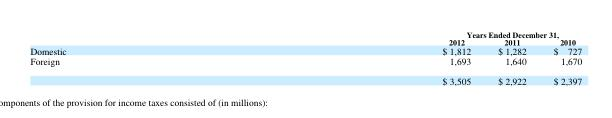table: (29, 29, 581, 87)
table column: (253, 29, 483, 87), (29, 29, 253, 87), (483, 29, 539, 87), (539, 29, 581, 87)
table column header: (29, 29, 581, 46)
table row: (29, 70, 581, 87), (29, 55, 581, 70), (29, 29, 581, 38), (29, 46, 581, 55), (29, 38, 581, 46)
table spanning cell: (253, 29, 581, 38)
